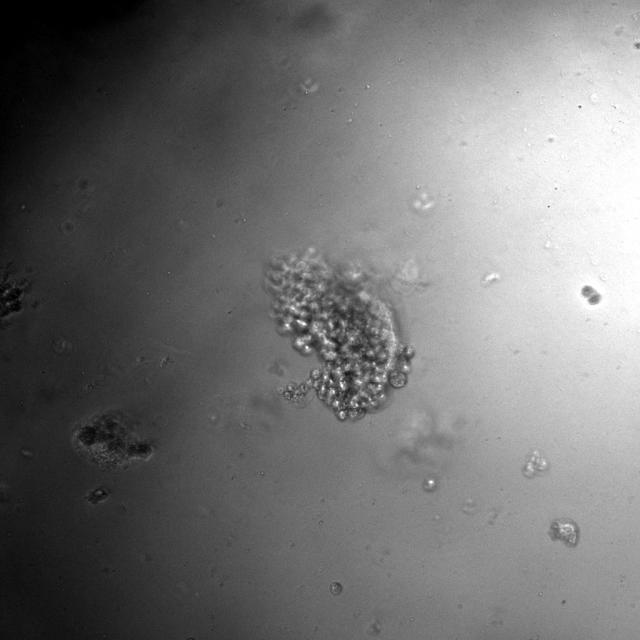organoid: (267, 249, 414, 420), (72, 410, 152, 469), (548, 520, 579, 547), (522, 450, 549, 478), (581, 285, 601, 305), (329, 582, 342, 594)
